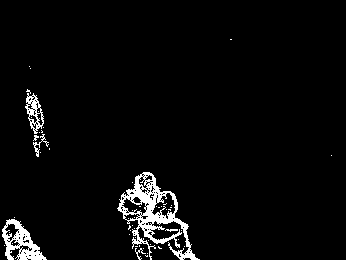person: (131, 190, 197, 259), (117, 171, 156, 238), (24, 90, 52, 159)
